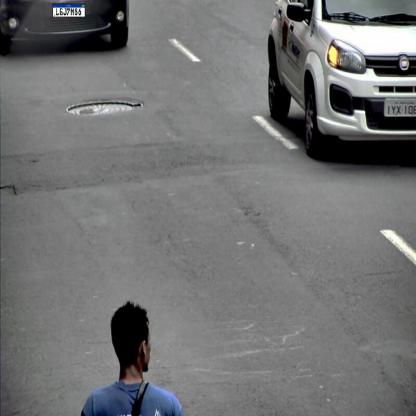PlacaM: (52, 4, 86, 18)
